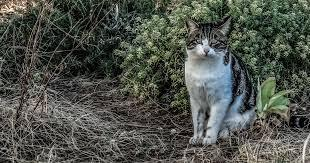Cat: (182, 16, 234, 59)
